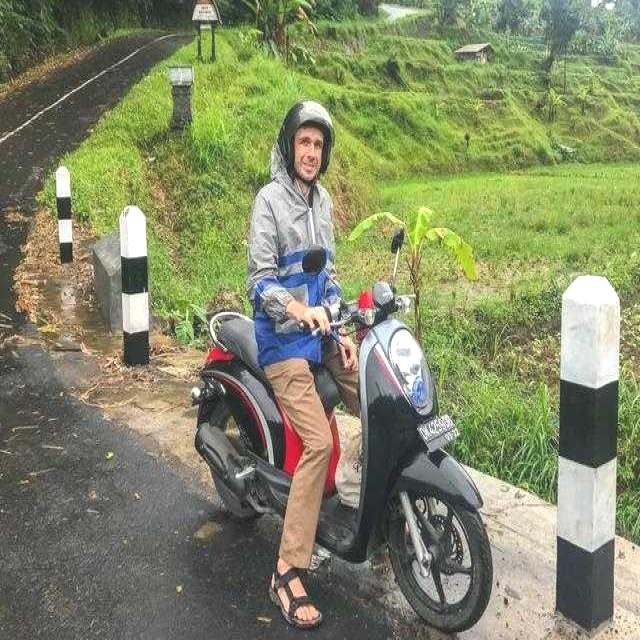Cycle: (153, 92, 502, 640)
